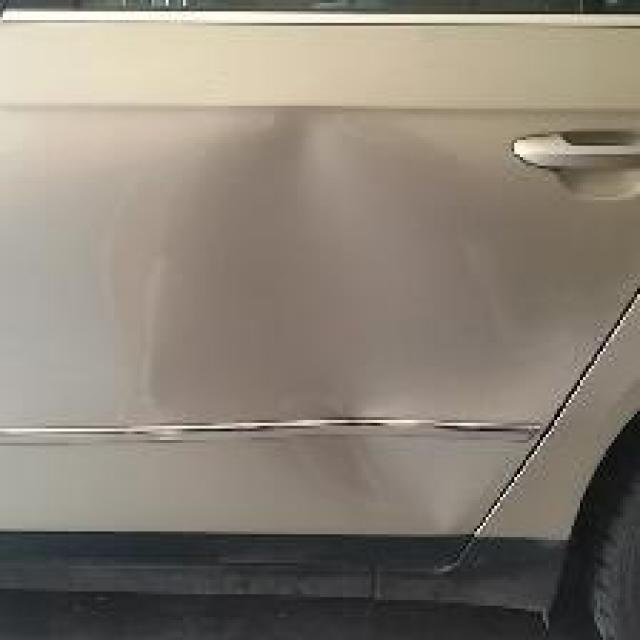damaged: (145, 105, 500, 546)
